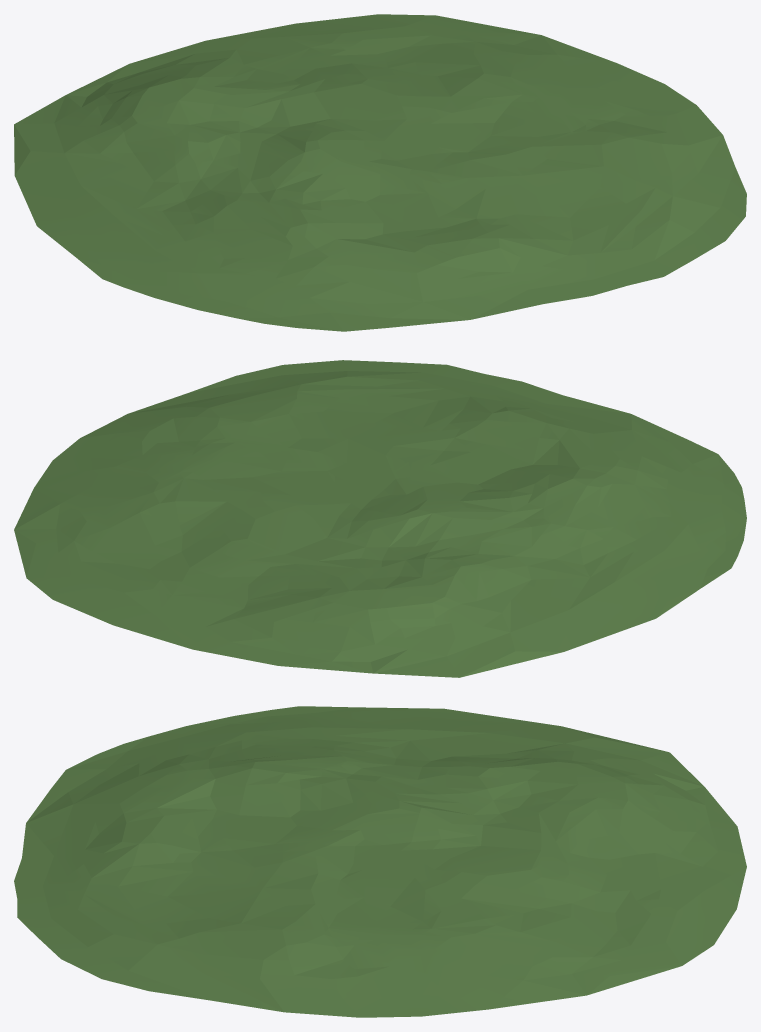
File: ground3.glb
The picture shows the model from 3 angles, top to bottom: view 1: azimuth 30°, elevation 25°; view 2: azimuth 150°, elevation 25°; view 3: azimuth 270°, elevation 25°; orthographic projection. The views are drawn at different scales.
Visible parts, largest first — view 1: SM_Generic_Ground_03; view 2: SM_Generic_Ground_03; view 3: SM_Generic_Ground_03.
Part boxes in pixels (x1=…): SM_Generic_Ground_03: x1=14, y1=14, x2=746, y2=331; SM_Generic_Ground_03: x1=14, y1=360, x2=746, y2=677; SM_Generic_Ground_03: x1=14, y1=706, x2=746, y2=1017.
Size of the model in its own units: 18.85 by 0.8615 by 18.74.
1 material, 1 textured.
